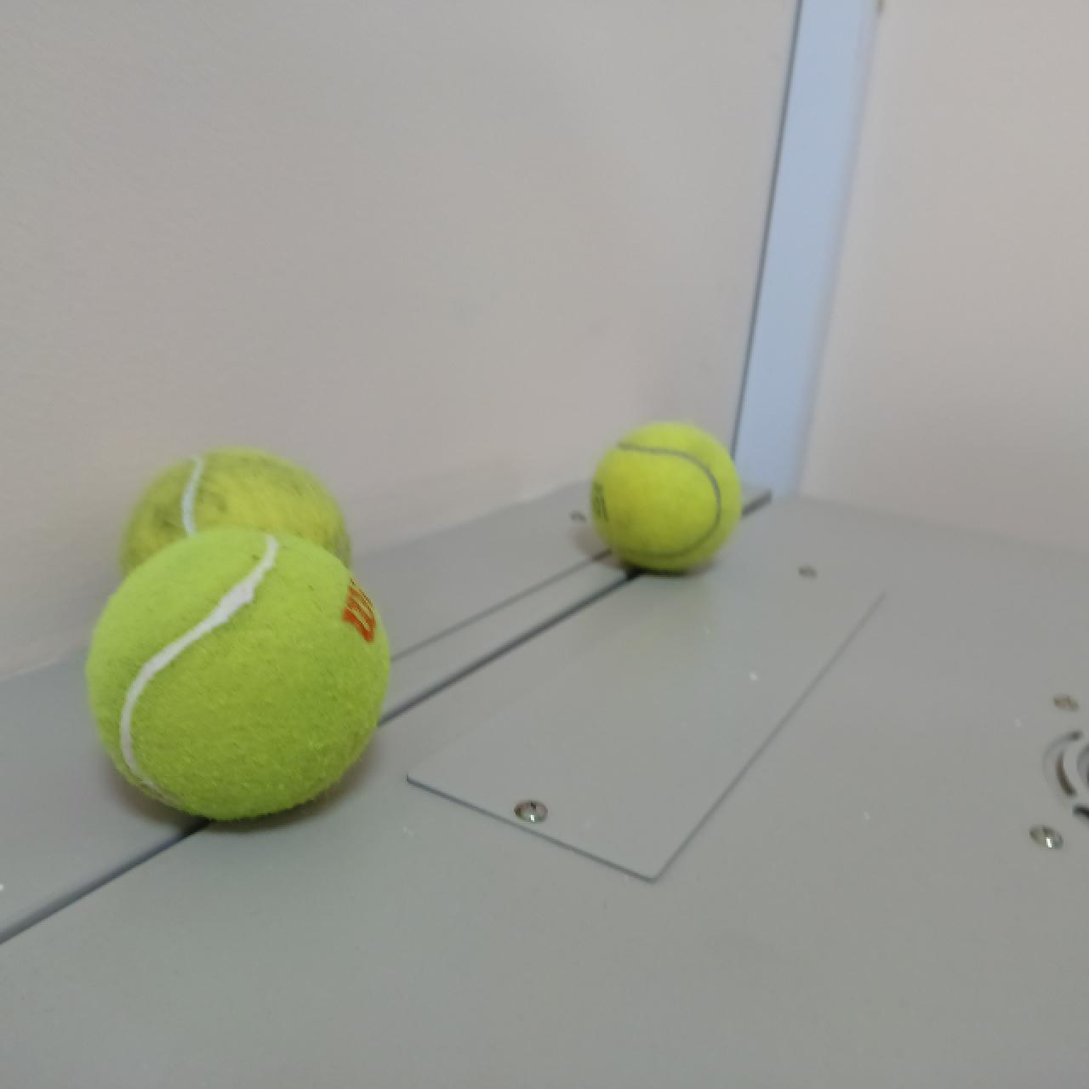tennis-ball: (85, 530, 395, 821), (119, 455, 353, 650), (591, 422, 744, 572)
